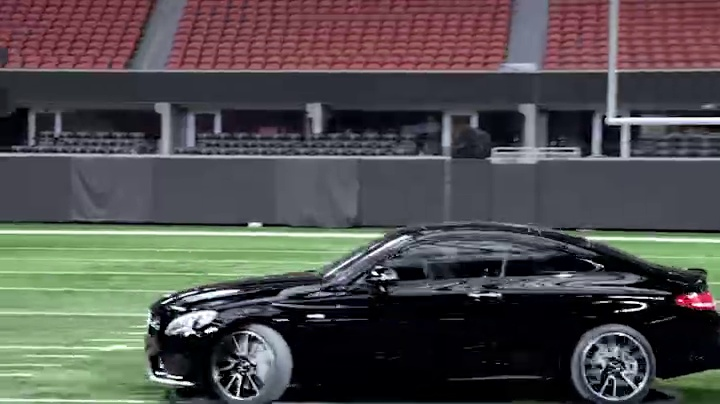amg: (132, 220, 719, 404)
